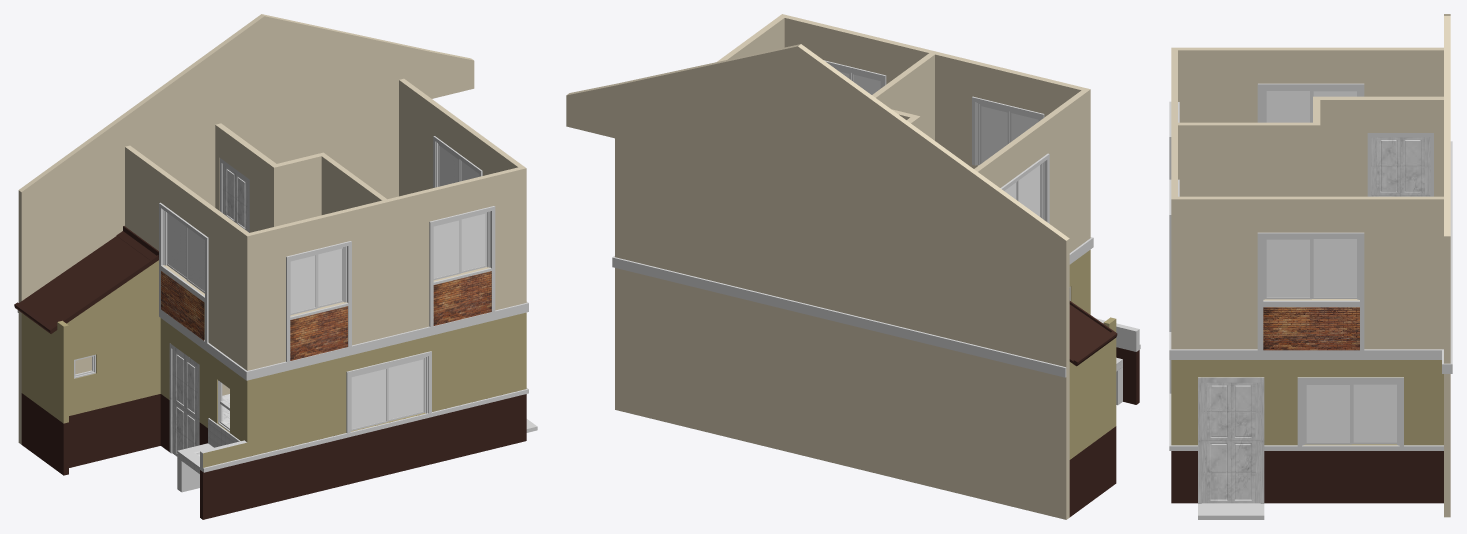
The model's file is jasmine_2ndfloor.glb.
3 renders of one model, left to right at view 1: azimuth 30°, elevation 25°; view 2: azimuth 150°, elevation 25°; view 3: azimuth 270°, elevation 25°, orthographic. The views are drawn at different scales.
Visible parts, largest first — view 1: Cube.039; view 2: Cube.039; view 3: Cube.039.
Boxes of the visible parts, x1,y1,x2,y2 form: Cube.039: (14,14,537,519); Cube.039: (566,14,1140,519); Cube.039: (1169,14,1452,519).
Size of the model in its own units: 8.38 by 6.5 by 4.02.
Materials: 15 (3 with a texture image).
